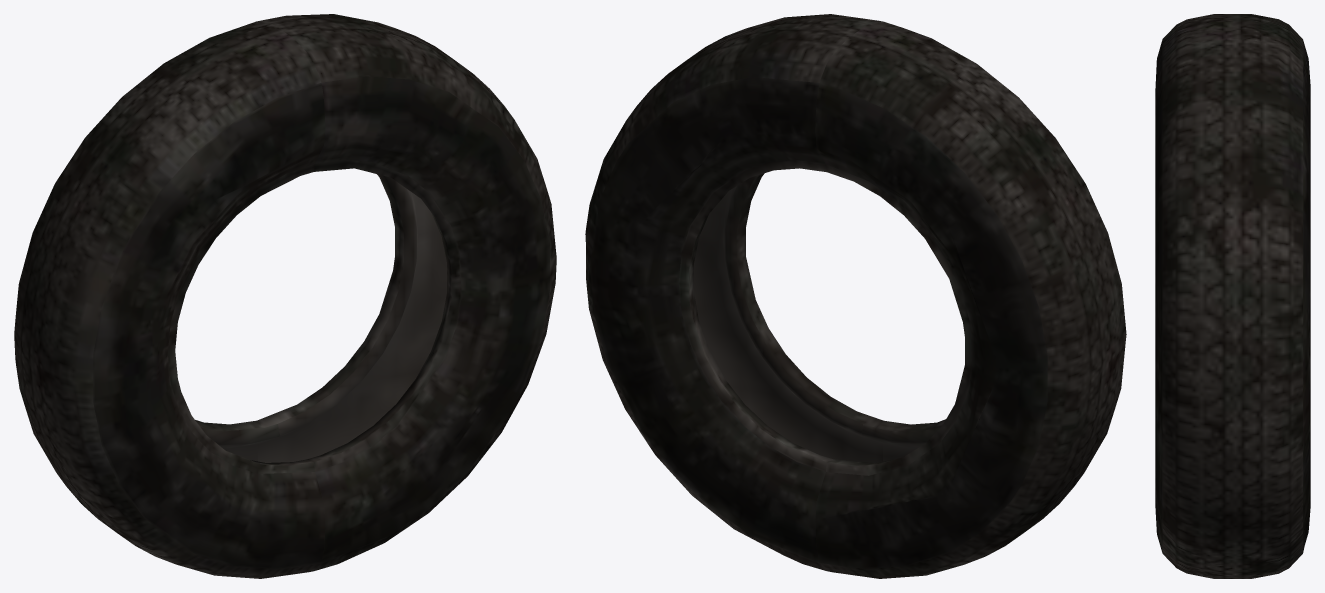
The model's file is old_tyre.glb.
3 renders of one model, left to right at view 1: azimuth 30°, elevation 25°; view 2: azimuth 150°, elevation 25°; view 3: azimuth 270°, elevation 25°, orthographic. The views are drawn at different scales.
Parts seen in each view (by area): view 1: old_tyre; view 2: old_tyre; view 3: old_tyre.
Part boxes in pixels (x1,y1,x2,y2): old_tyre: (14,14,556,578); old_tyre: (585,14,1126,578); old_tyre: (1155,14,1310,578).
Size of the model in its own units: 0.6 by 0.6 by 0.165.
1 material, 1 textured.
